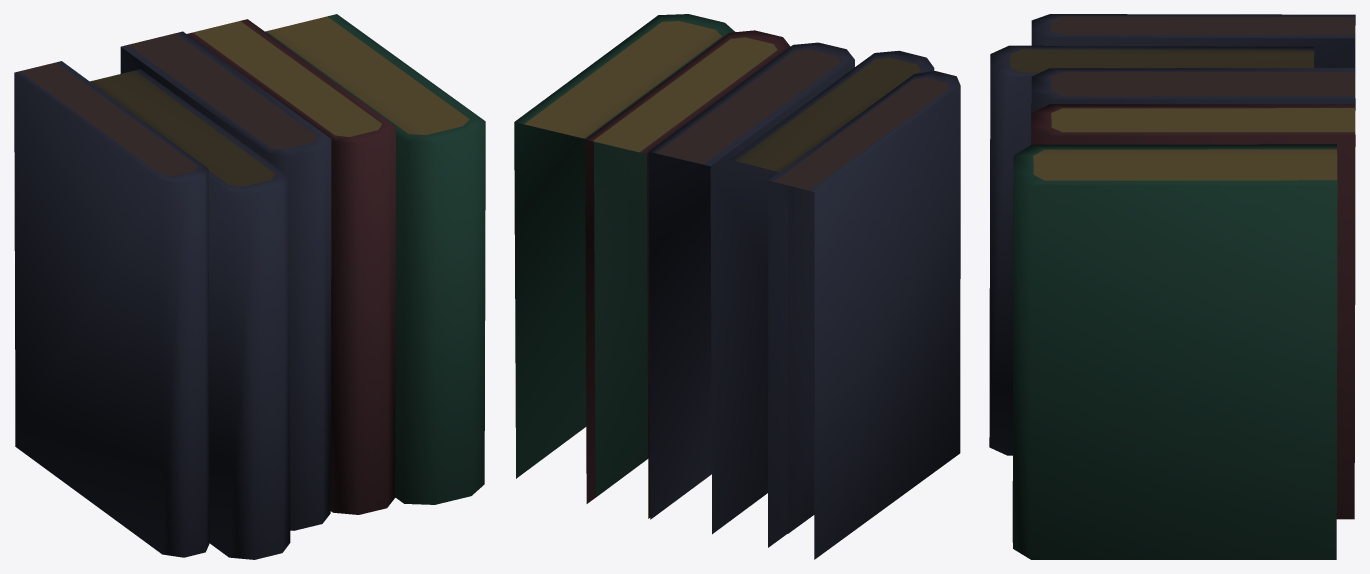
Rendered from pq_livres_petits_3.glb.
The picture shows the model from 3 angles, left to right: view 1: azimuth 30°, elevation 25°; view 2: azimuth 150°, elevation 25°; view 3: azimuth 270°, elevation 25°; orthographic projection. The views are drawn at different scales.
Parts seen in each view (by area): view 1: BookGroup_Small_3; view 2: BookGroup_Small_3; view 3: BookGroup_Small_3.
Part boxes in pixels (x1,y1,x2,y2): BookGroup_Small_3: (14,14,485,559); BookGroup_Small_3: (514,14,960,559); BookGroup_Small_3: (989,14,1355,559).
Size of the model in its own units: 0.2154 by 0.2441 by 0.2088.
